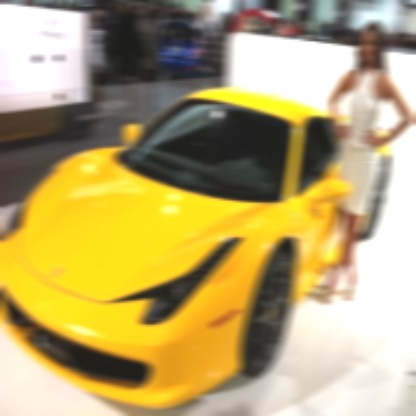Vehicle: (3, 87, 392, 411)
